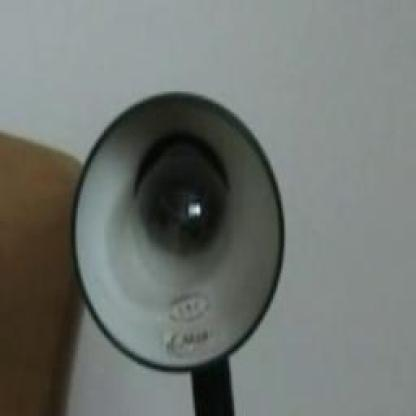other: (78, 102, 288, 370)
